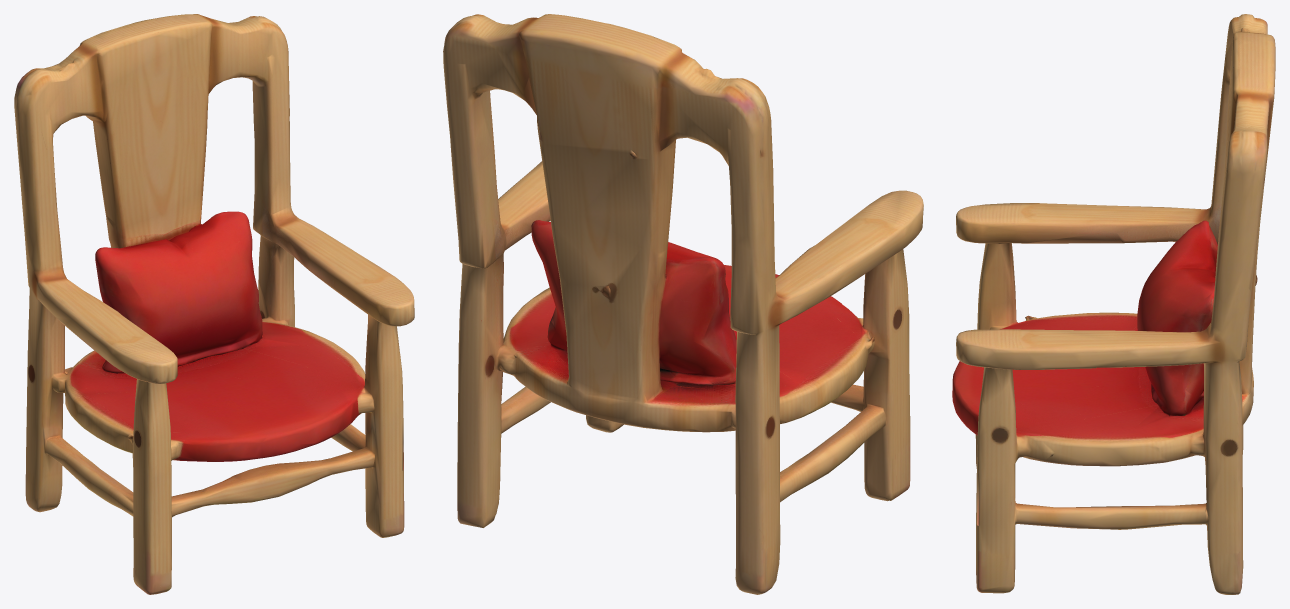
Rendered from armchair.glb.
The picture shows the model from 3 angles, left to right: view 1: azimuth 30°, elevation 25°; view 2: azimuth 150°, elevation 25°; view 3: azimuth 270°, elevation 25°; orthographic projection. The views are drawn at different scales.
Size of the model in its own units: 1.34 by 2 by 1.23.
Materials: 1 (1 with a texture image).
